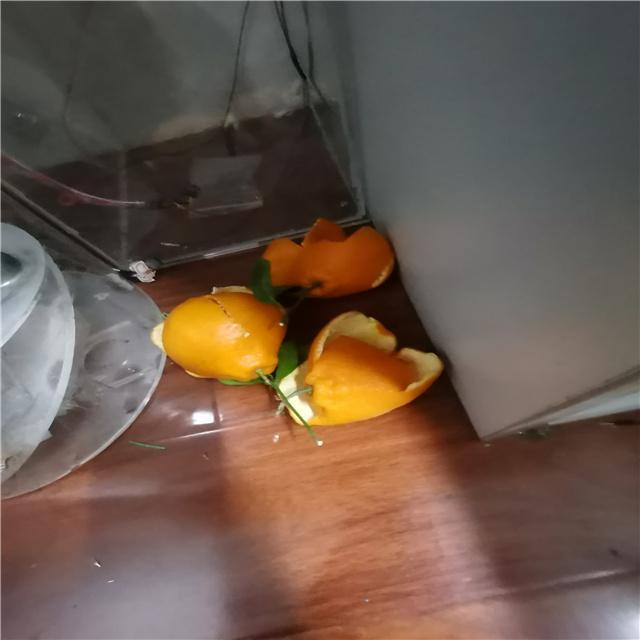orange-peel: (288, 308, 450, 426), (150, 287, 295, 383), (264, 214, 398, 298)
